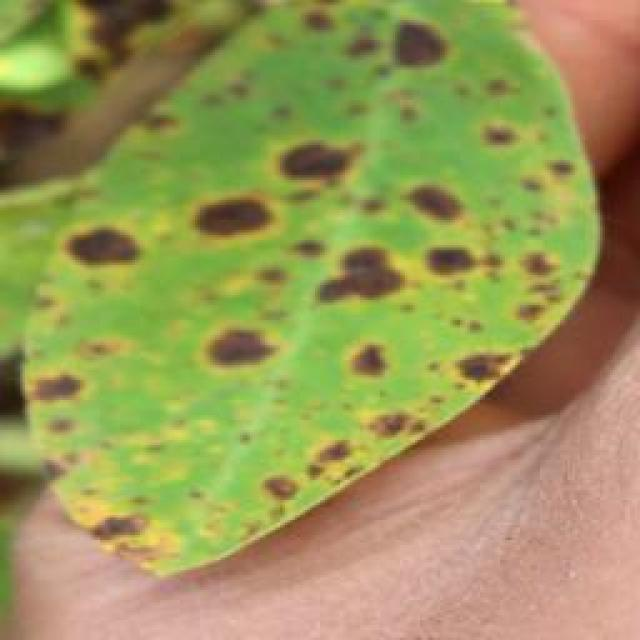Yellowish: (14, 1, 591, 526)
